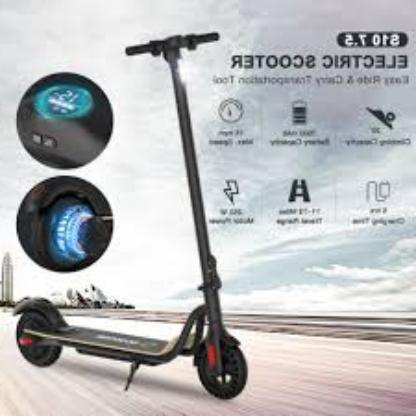bike: (12, 33, 249, 402)
traffic light: (14, 73, 117, 274)
